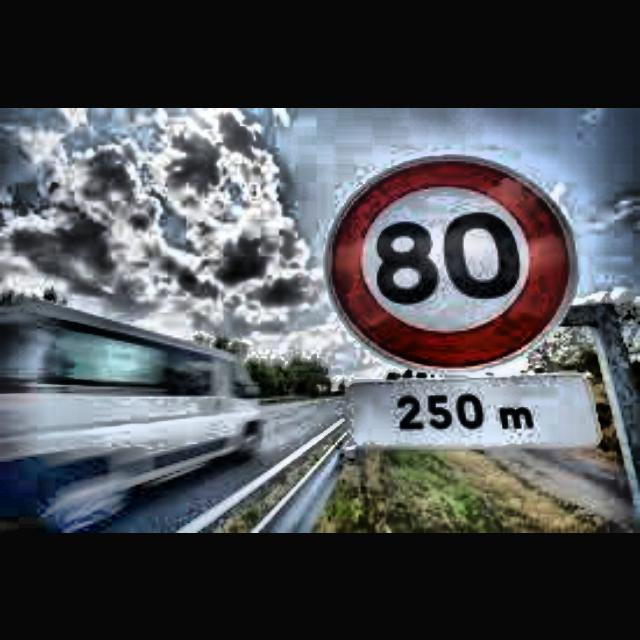speed_80: (332, 157, 574, 369)
